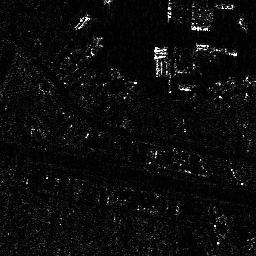ship: (74, 13, 90, 30), (212, 1, 234, 10)
